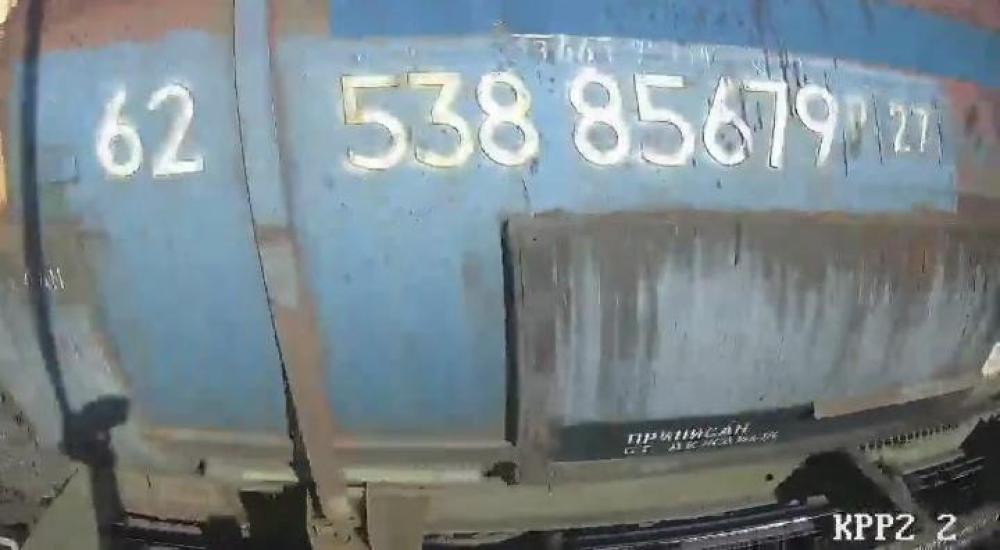Wagon-number: (338, 64, 844, 179)
